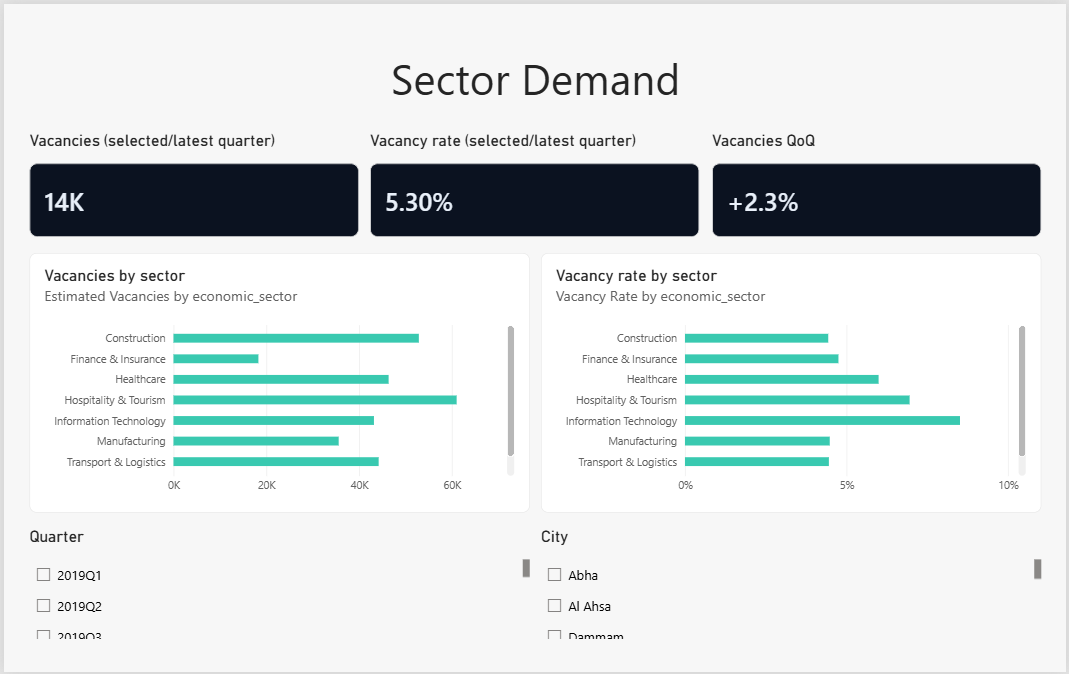

Layout of this report page (visuals, bound fields, positions):
{"tool":"powerbi","page":{"name":"Sector Demand","canvas":[1200,720],"ordinal":1},"visuals":[{"type":"cardVisual","title":"Vacancies QoQ","fields":{"Data":["Labor.Vacancies QoQ %"]},"box":[800,111,372,119],"z":0},{"type":"textbox","box":[28,17,1144,79],"z":1000},{"type":"clusteredBarChart","title":"Vacancies by sector","fields":{"Category":["Labor.economic_sector"],"Y":["Labor.Estimated Vacancies"]},"box":[28,247,565,293],"z":2000},{"type":"slicer","title":"City","fields":{"Values":["Labor.city"]},"box":[607,557,565,125],"z":3000},{"type":"cardVisual","title":"Vacancies (selected/latest quarter)","fields":{"Data":["Labor.Latest Quarter Vacancies"]},"box":[28,111,372,119],"z":4000},{"type":"clusteredBarChart","title":"Vacancy rate by sector","fields":{"Category":["Labor.economic_sector"],"Y":["Labor.Vacancy Rate"]},"box":[607,247,565,293],"z":5000},{"type":"cardVisual","title":"Vacancy rate (selected/latest quarter)","fields":{"Data":["Labor.Latest Quarter Vacancy Rate"]},"box":[414,111,372,119],"z":6000},{"type":"slicer","title":"Quarter","fields":{"Values":["Labor.quarter"]},"box":[28,557,565,125],"z":7000}]}

Visuals, with their boxes on the page's 1200x720 design canvas (x1, y1, x2, y2). These are canvas units, not pixel positions in the 1069x674 screenshot, which may show the page scaled, cropped or inside an application window:
"Vacancies QoQ" cardVisual: <box>800,111,1172,230</box>
textbox: <box>28,17,1172,96</box>
"Vacancies by sector" clusteredBarChart: <box>28,247,593,540</box>
"City" slicer: <box>607,557,1172,682</box>
"Vacancies (selected/latest quarter)" cardVisual: <box>28,111,400,230</box>
"Vacancy rate by sector" clusteredBarChart: <box>607,247,1172,540</box>
"Vacancy rate (selected/latest quarter)" cardVisual: <box>414,111,786,230</box>
"Quarter" slicer: <box>28,557,593,682</box>
